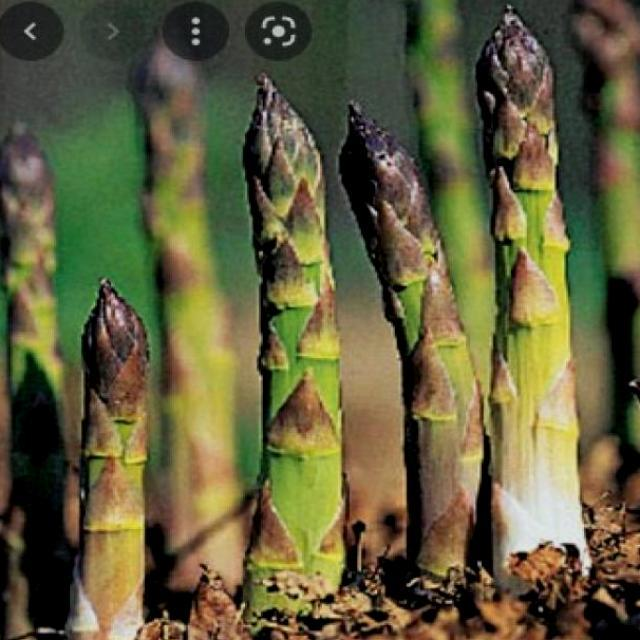aspargus: (339, 102, 487, 574), (474, 7, 580, 558), (241, 74, 349, 613), (72, 280, 150, 640)
